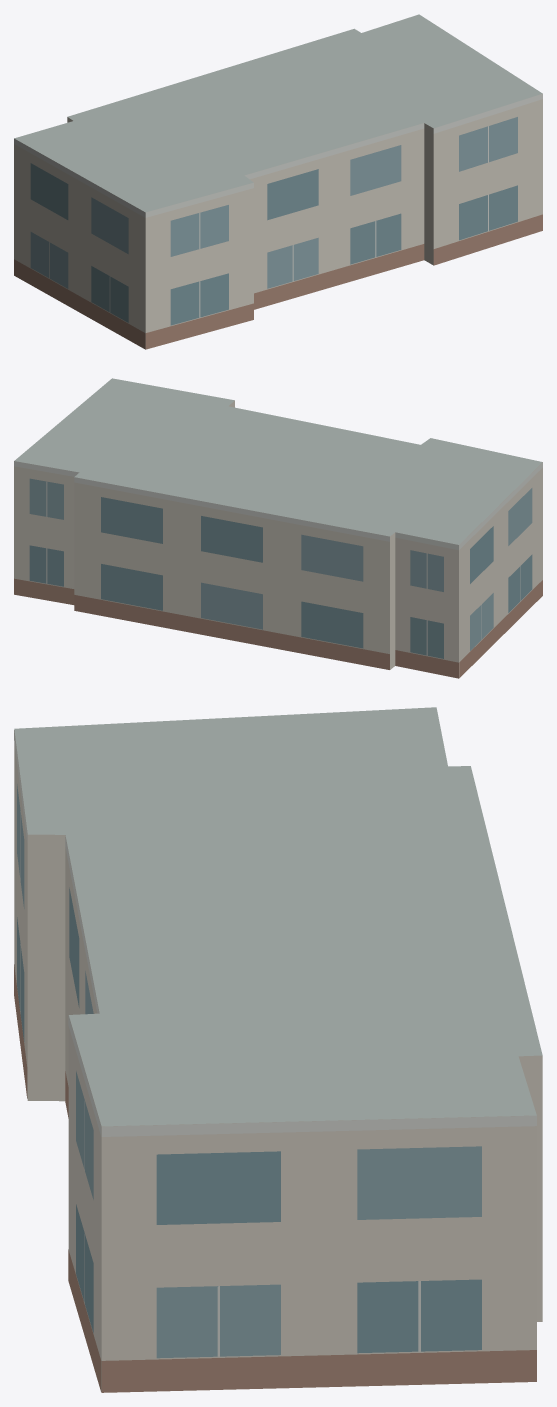
File: survey-upis-32916526.glb
3 views of the same model, one above another, from view 1: azimuth 30°, elevation 25°; view 2: azimuth 150°, elevation 25°; view 3: azimuth 270°, elevation 25° (orthographic). The views are drawn at different scales.
Visible parts, largest first — view 1: survey-upis-32916526.tmp; view 2: survey-upis-32916526.tmp; view 3: survey-upis-32916526.tmp.
Part boxes in pixels (x1=…): survey-upis-32916526.tmp: x1=14, y1=14, x2=542, y2=349; survey-upis-32916526.tmp: x1=14, y1=378, x2=542, y2=678; survey-upis-32916526.tmp: x1=14, y1=707, x2=542, y2=1392.
Size of the model in its own units: 20.6 by 6.1 by 10.98.
